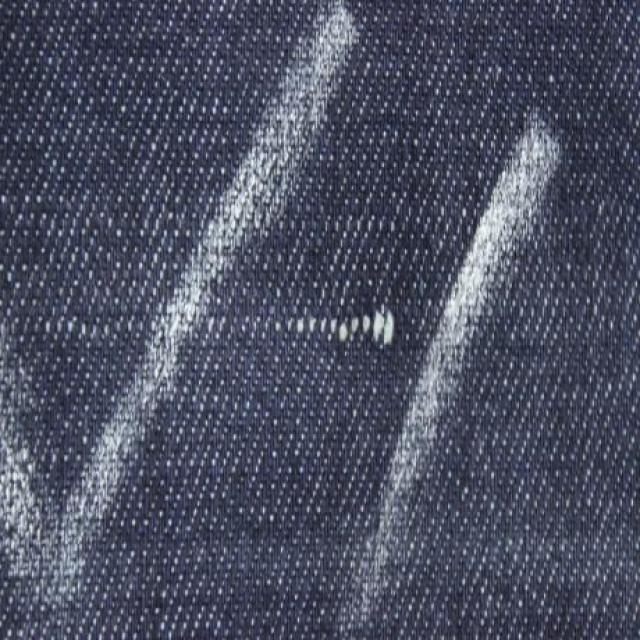stains: (242, 274, 424, 404)
